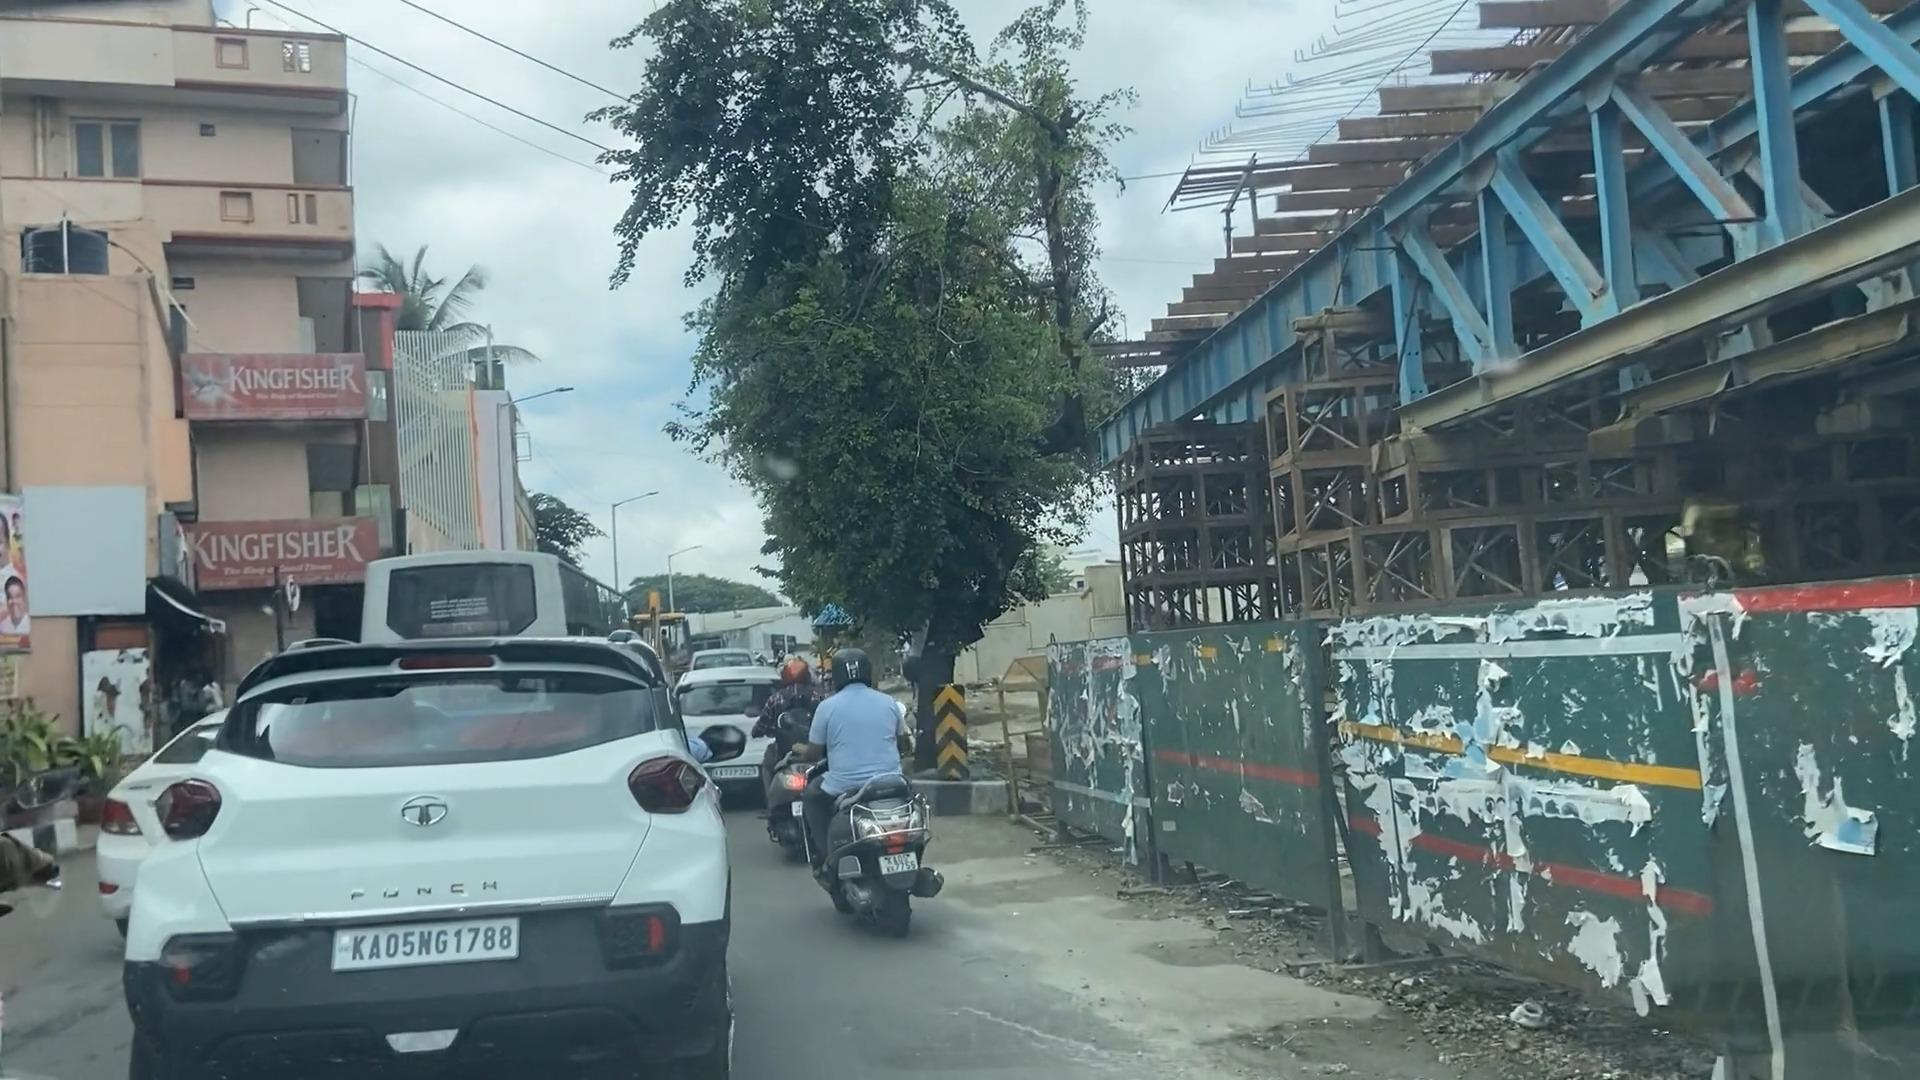LMV: (150, 644, 674, 1080), (785, 661, 931, 932)
